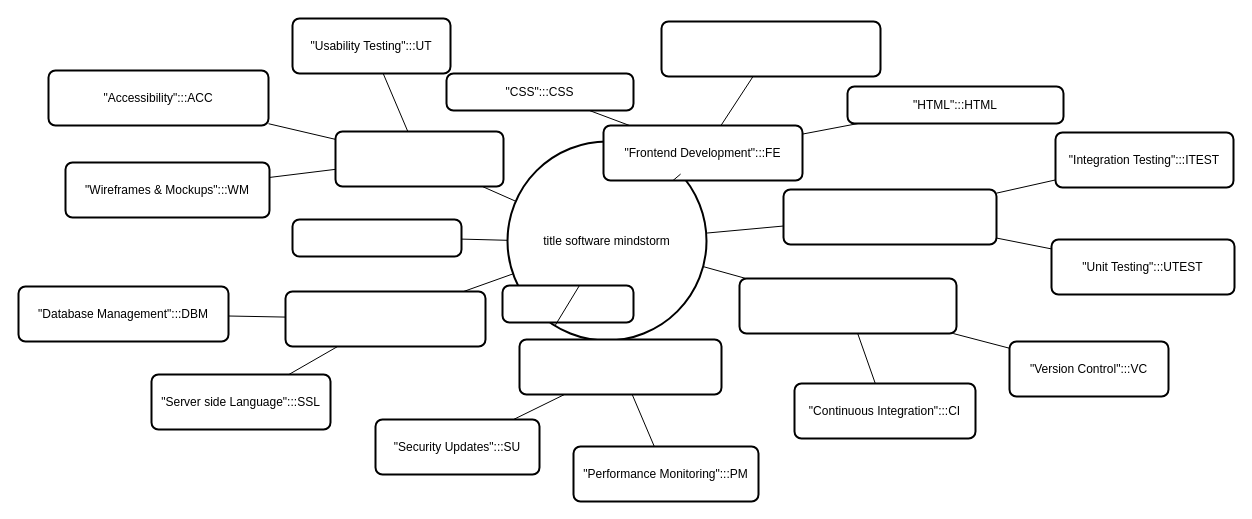
Image size: 1252x519. Some labels were removed from this diagram. The shapes that lost their labels are listed below. From the top down, each one's centre as x and y in pixels, then its label:
(770,48): "JavaScript":::JS
(419,158): "User Interface":::UI
(889,216): "Testing":::TEST
(376,237): orientation left right
(385,318): "Backend Development":::BE
(567,303): nodeSpacing 50
(847,305): "Deployment":::DEPLOY
(620,366): "Monitoring & Maintenance":::MM
